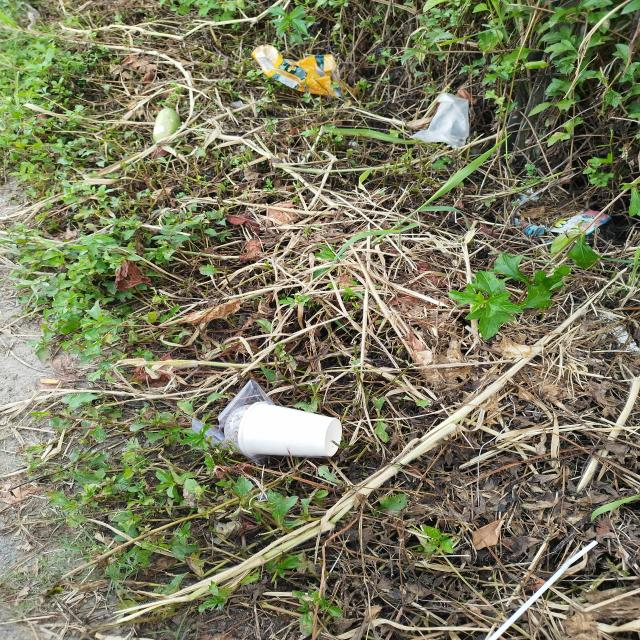bag: (409, 93, 470, 148)
plastic glass: (223, 402, 343, 458)
snack package: (252, 45, 353, 97), (510, 188, 611, 235)
